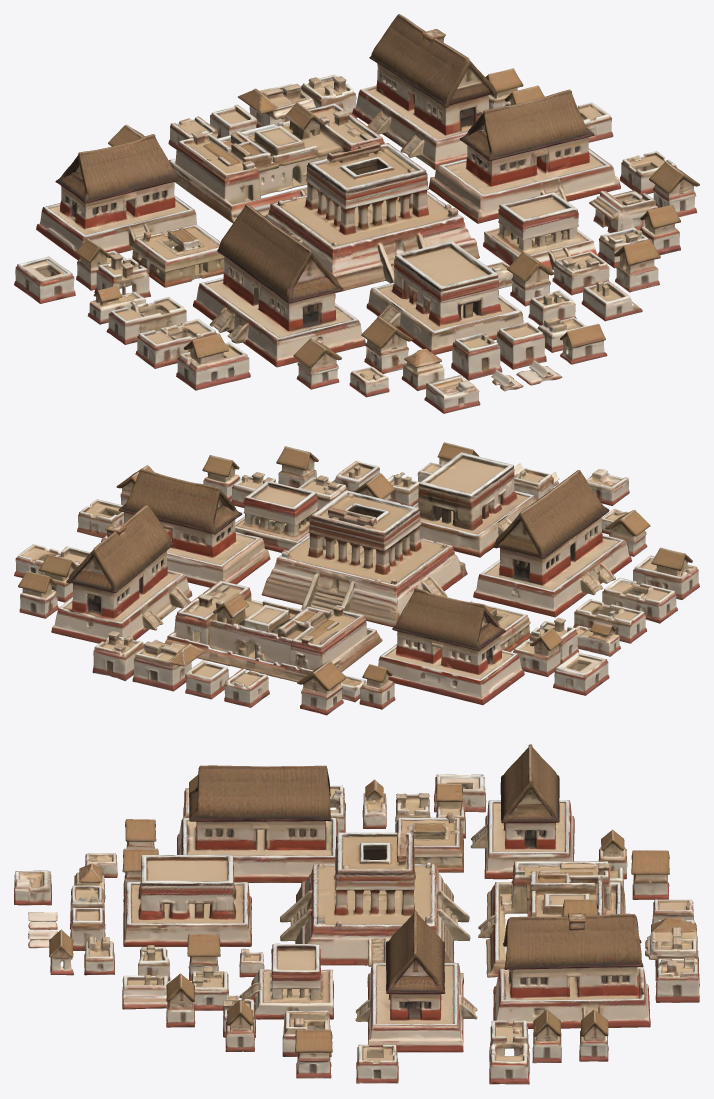
File: Ancient City (Mesoamerican).fbx
3 renders of one model, top to bottom at view 1: azimuth 30°, elevation 25°; view 2: azimuth 150°, elevation 25°; view 3: azimuth 270°, elevation 25°, orthographic. The views are drawn at different scales.
Visible parts, largest first — view 1: tripo_node_78402881; view 2: tripo_node_78402881; view 3: tripo_node_78402881.
Part boxes in pixels (x1=…): tripo_node_78402881: x1=14, y1=14, x2=699, y2=413; tripo_node_78402881: x1=14, y1=442, x2=699, y2=715; tripo_node_78402881: x1=14, y1=744, x2=699, y2=1084.
Size of the model in its own units: 0.9998 by 0.1677 by 1.
